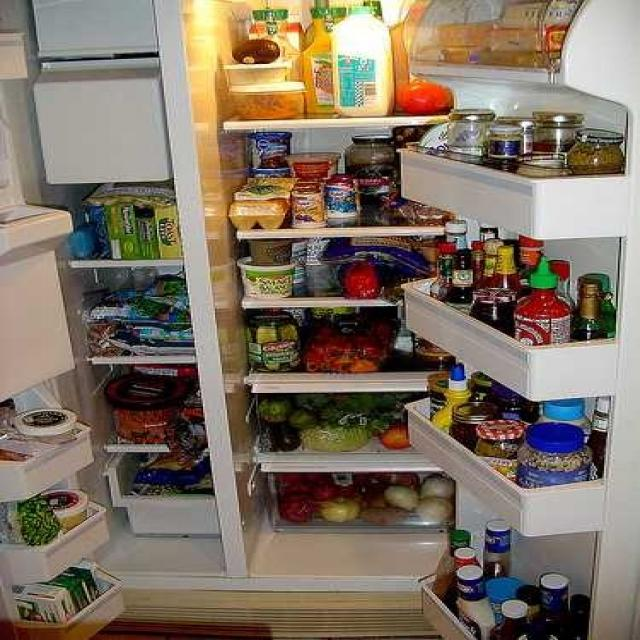refrigerator: (19, 0, 640, 586)
